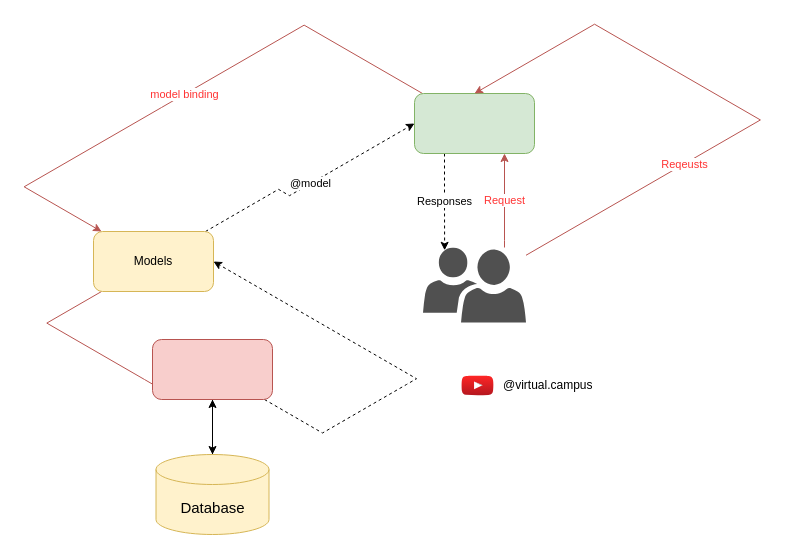
Image size: 787x553. Some labels were removed from this diagram. Here are the shapes that lost their labels. From the top down, the box of each, then its label:
(414, 92, 534, 154): Views
(152, 338, 272, 400): Controllers
